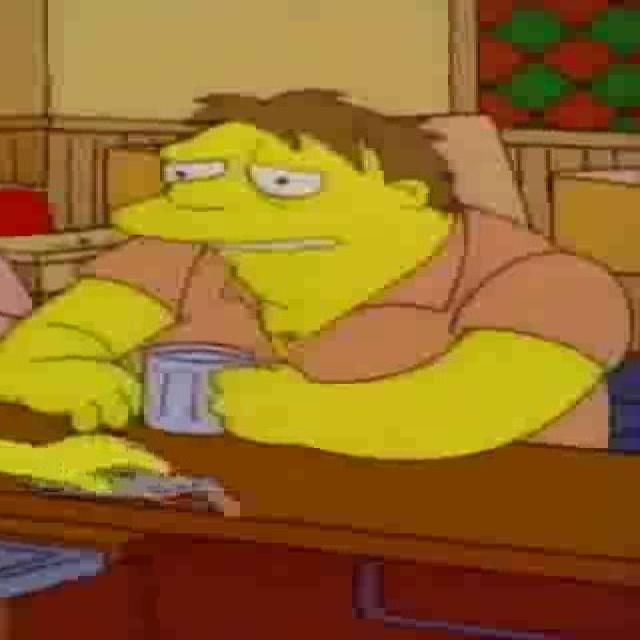Barney Gumble: (103, 86, 465, 317)
